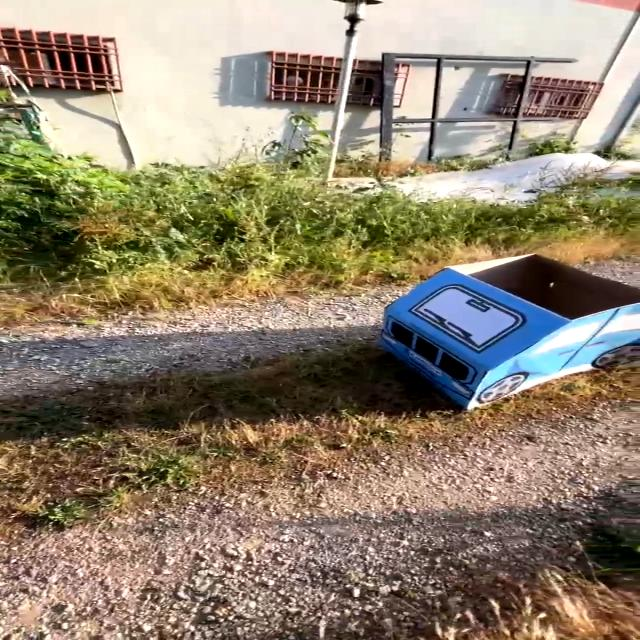blue_car: (332, 234, 640, 425)
